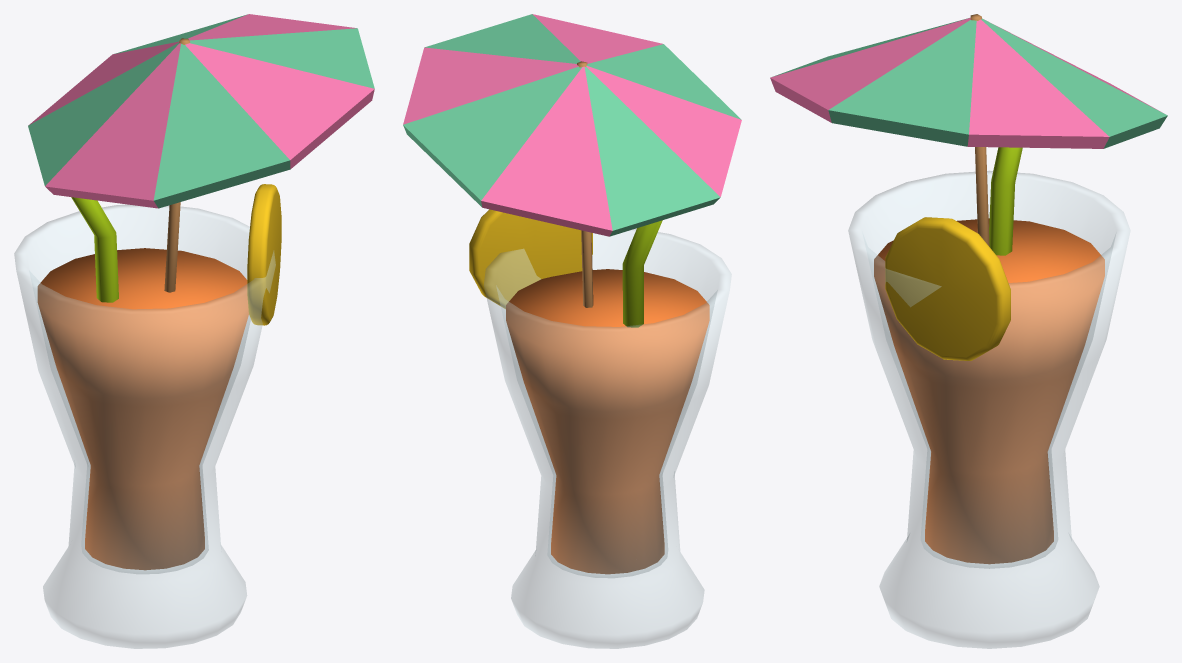
The model's file is drink.glb.
3 views of the same model, side by side, from view 1: azimuth 30°, elevation 25°; view 2: azimuth 150°, elevation 25°; view 3: azimuth 270°, elevation 25° (orthographic). The views are drawn at different scales.
Visible parts, largest first — view 1: drink; view 2: drink; view 3: drink.
Part boxes in pixels (left/top/right/bottom): drink: left=14, top=14, right=374, bottom=648; drink: left=403, top=14, right=741, bottom=648; drink: left=770, top=14, right=1167, bottom=648.
Bounding box in the file's own units: 0.1141 × 0.1941 × 0.1155.
